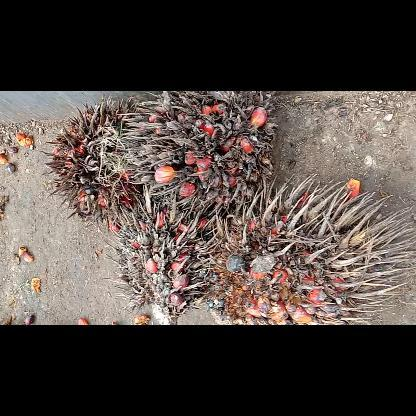Terlalu masak: (198, 170, 414, 324), (120, 90, 282, 222), (36, 95, 148, 229), (102, 190, 214, 324)
